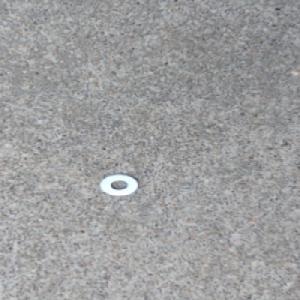Washer: (96, 172, 141, 198)
